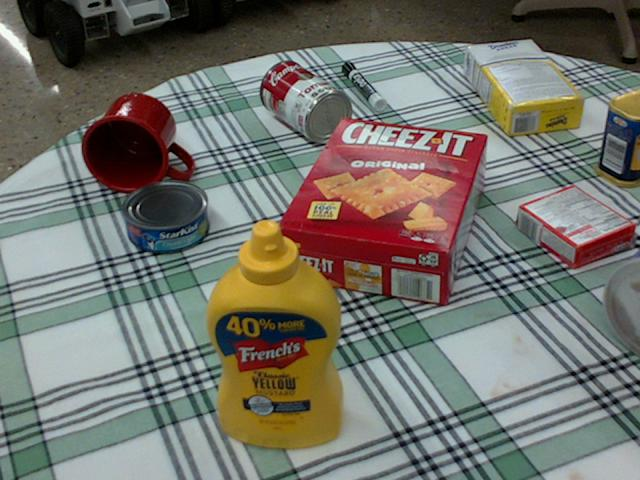cracker_box: (276, 118, 491, 305)
gelatin_box: (516, 185, 632, 265)
large_marker: (341, 61, 385, 109)
master_chef_can: (605, 250, 639, 356)
mug: (81, 93, 192, 192)
mustard_bottle: (205, 219, 345, 447)
potted_meat_can: (593, 88, 639, 187)
sugar_box: (464, 40, 586, 136)
tomato_soup_can: (259, 59, 351, 141)
tuna_fish_can: (119, 180, 208, 252)
